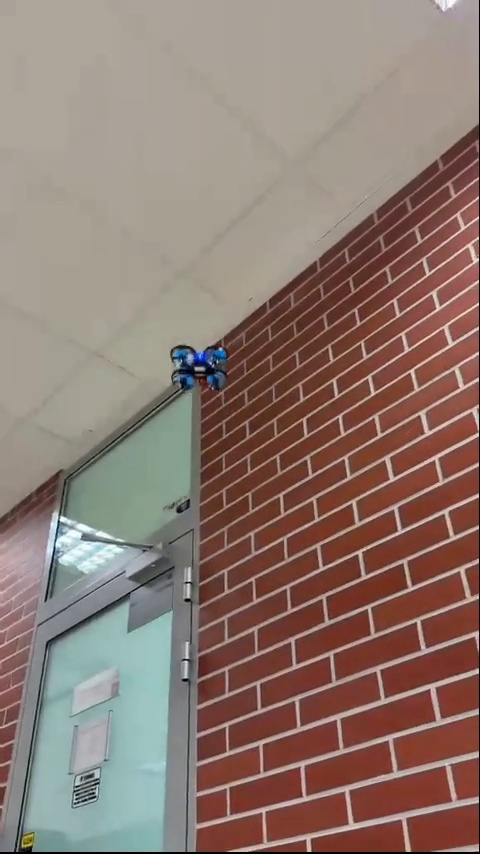drone: (164, 345, 237, 391)
